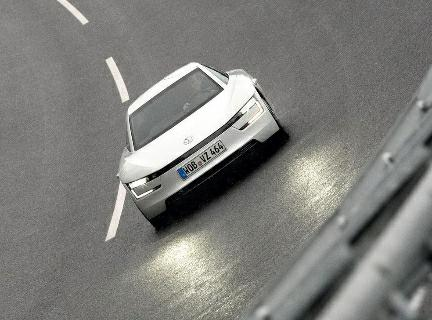大众-XL1: (115, 54, 293, 232)
